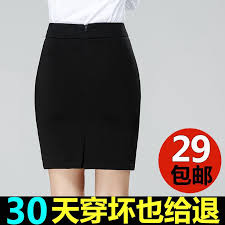F_tailored skirt: (28, 15, 145, 187)
